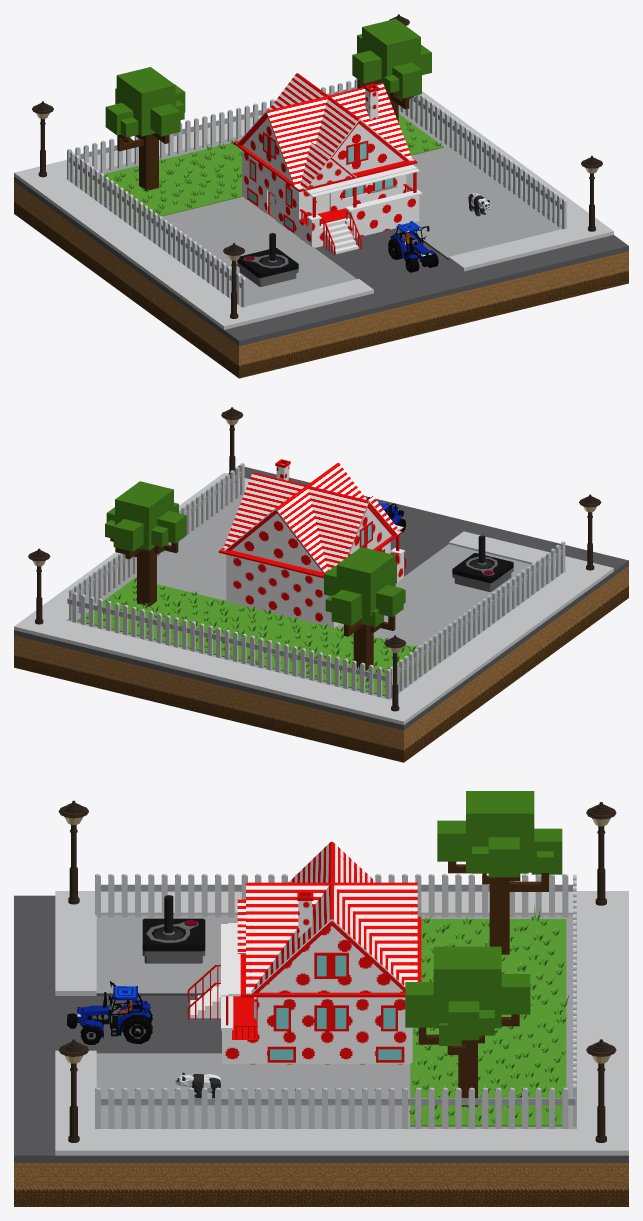
3 renders of one model, top to bottom at view 1: azimuth 30°, elevation 25°; view 2: azimuth 150°, elevation 25°; view 3: azimuth 270°, elevation 25°, orthographic. The views are drawn at different scales.
Parts seen in each view (by area): view 1: Cube.004, Cube.196, OBJRANDOM_JOYSTICK, VEHICLES_TRACTOR; view 2: Cube.004, Cube.196, OBJRANDOM_JOYSTICK; view 3: Cube.004, Cube.196, VEHICLES_TRACTOR, OBJRANDOM_JOYSTICK, ANIMAL_PANDA.
Part boxes in pixels (bbox=[...]): Cube.004: bbox=[14, 14, 628, 378]; Cube.196: bbox=[233, 73, 422, 255]; OBJRANDOM_JOYSTICK: bbox=[237, 233, 298, 286]; VEHICLES_TRACTOR: bbox=[388, 221, 438, 272]; Cube.004: bbox=[14, 407, 628, 762]; Cube.196: bbox=[218, 459, 406, 627]; OBJRANDOM_JOYSTICK: bbox=[452, 535, 513, 591]; Cube.004: bbox=[14, 791, 628, 1206]; Cube.196: bbox=[187, 841, 421, 1064]; VEHICLES_TRACTOR: bbox=[67, 981, 152, 1044]; OBJRANDOM_JOYSTICK: bbox=[142, 895, 205, 963]; ANIMAL_PANDA: bbox=[175, 1072, 221, 1098].
Size of the model in its own units: 4000 by 1702 by 4000.
Materials: 30 (4 with a texture image).
